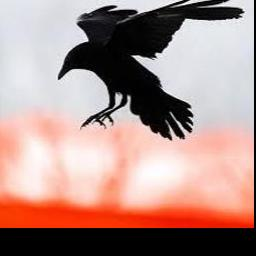Crow: (57, 0, 244, 140)
